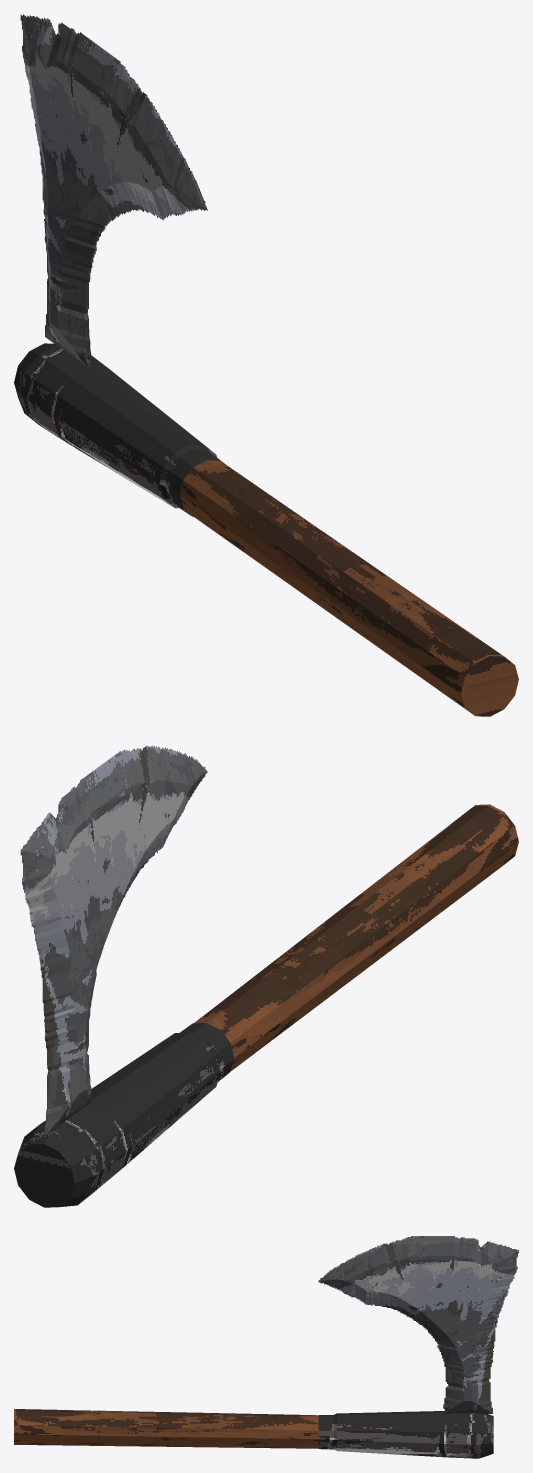
File: battle-axe.glb
3 views of the same model, one above another, from view 1: azimuth 30°, elevation 25°; view 2: azimuth 150°, elevation 25°; view 3: azimuth 270°, elevation 25° (orthographic). The views are drawn at different scales.
Visible parts, largest first — view 1: blade, haft, socket; view 2: blade, haft, socket; view 3: blade, haft, socket.
Part boxes in pixels (x1,y1,x2,y2): blade: (20, 14, 207, 368); haft: (180, 460, 518, 716); socket: (14, 343, 224, 516); blade: (20, 745, 207, 1136); haft: (194, 804, 518, 1071); socket: (14, 1023, 233, 1207); blade: (318, 1236, 518, 1413); haft: (14, 1409, 318, 1448); socket: (318, 1411, 493, 1458).
Size of the model in its own units: 0.0764 by 0.3832 by 0.7953.
Materials: 2 (2 with a texture image).
